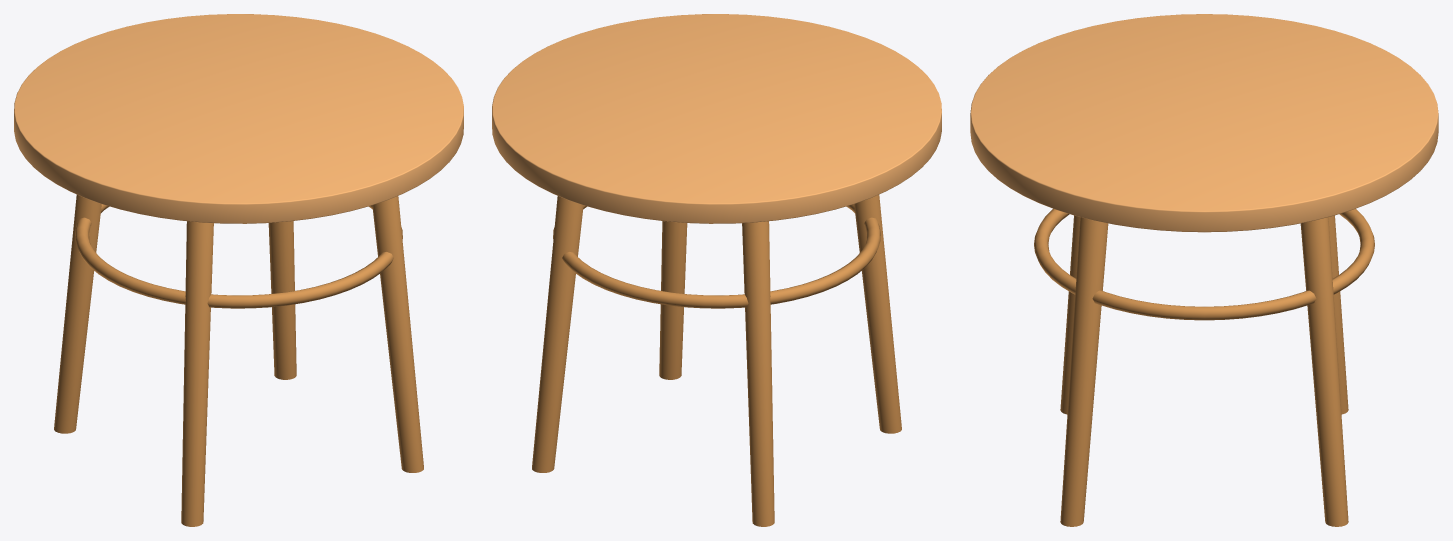
The model's file is mesa_jantar_redonda_aro_mel.glb.
3 views of the same model, side by side, from view 1: azimuth 30°, elevation 25°; view 2: azimuth 150°, elevation 25°; view 3: azimuth 270°, elevation 25° (orthographic). The views are drawn at different scales.
Parts seen in each view (by area): view 1: mesa_jantar_redonda_aro_mel; view 2: mesa_jantar_redonda_aro_mel; view 3: mesa_jantar_redonda_aro_mel.
Part boxes in pixels (<box>): mesa_jantar_redonda_aro_mel: <box>14,14,463,526</box>; mesa_jantar_redonda_aro_mel: <box>492,14,941,526</box>; mesa_jantar_redonda_aro_mel: <box>970,14,1438,526</box>.
Size of the model in its own units: 0.9 by 0.75 by 0.9.
Materials: 1 (1 with a texture image).
